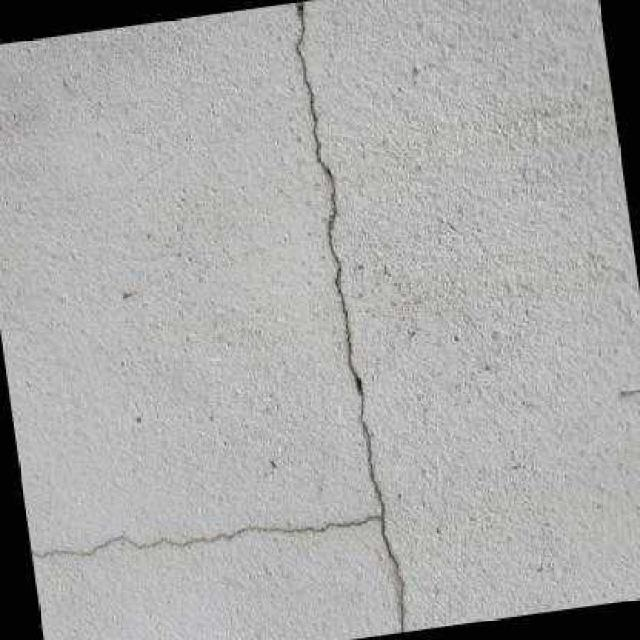D00: (29, 0, 403, 632)
